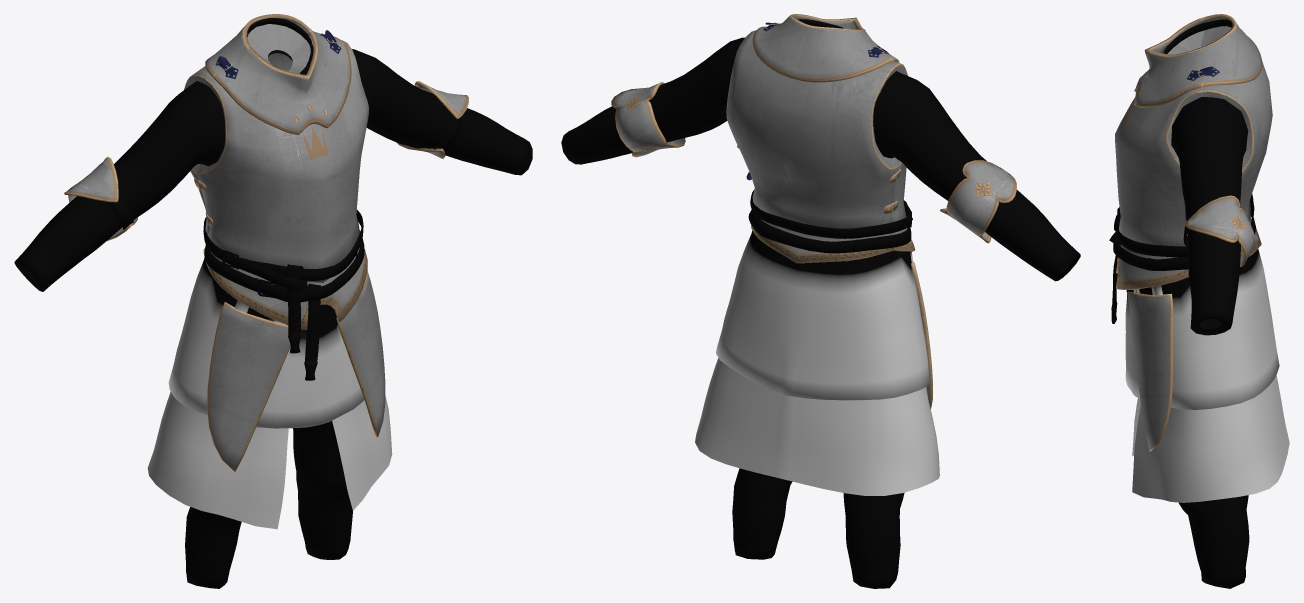
Rendered from swan_knight_armor_2b_t3.fbx.
3 views of the same model, side by side, from view 1: azimuth 30°, elevation 25°; view 2: azimuth 150°, elevation 25°; view 3: azimuth 270°, elevation 25° (orthographic). The views are drawn at different scales.
Visible parts, largest first — view 1: swan_knight_armor_2b_t3.0, swan_knight_armor_2b_t3.1; view 2: swan_knight_armor_2b_t3.0, swan_knight_armor_2b_t3.1; view 3: swan_knight_armor_2b_t3.0, swan_knight_armor_2b_t3.1.
Boxes of the visible parts, x1,y1,x2,y2 form: swan_knight_armor_2b_t3.0: [14, 18, 532, 588]; swan_knight_armor_2b_t3.1: [64, 14, 468, 472]; swan_knight_armor_2b_t3.0: [561, 19, 1080, 588]; swan_knight_armor_2b_t3.1: [611, 14, 1016, 409]; swan_knight_armor_2b_t3.0: [1109, 19, 1289, 588]; swan_knight_armor_2b_t3.1: [1115, 14, 1272, 451].
Size of the model in its own units: 1.34 by 0.424 by 1.37.
